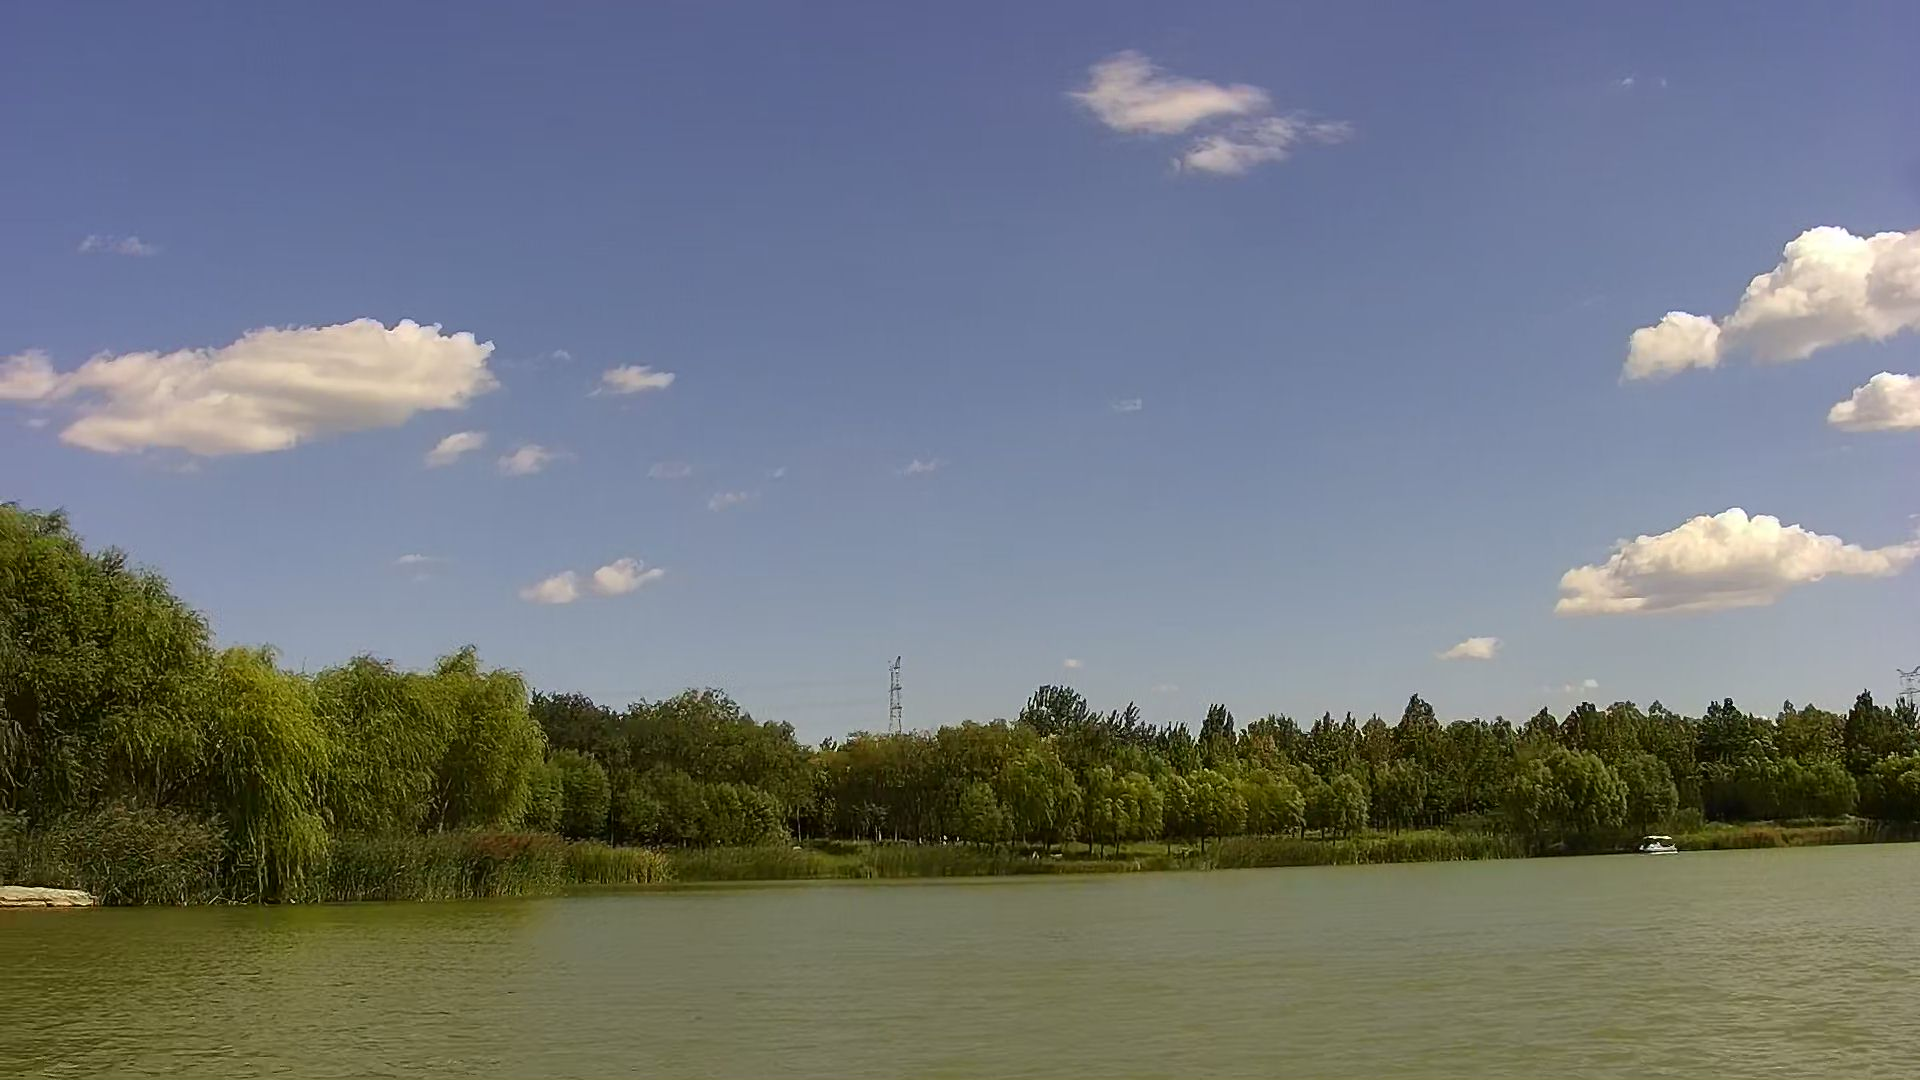boat: (1638, 833, 1680, 856)
